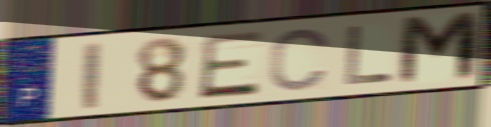8: (134, 36, 188, 104)
C: (267, 25, 333, 93)
E: (196, 28, 266, 102)
I: (82, 39, 103, 112)
L: (342, 23, 395, 88)
M: (396, 9, 483, 88)
